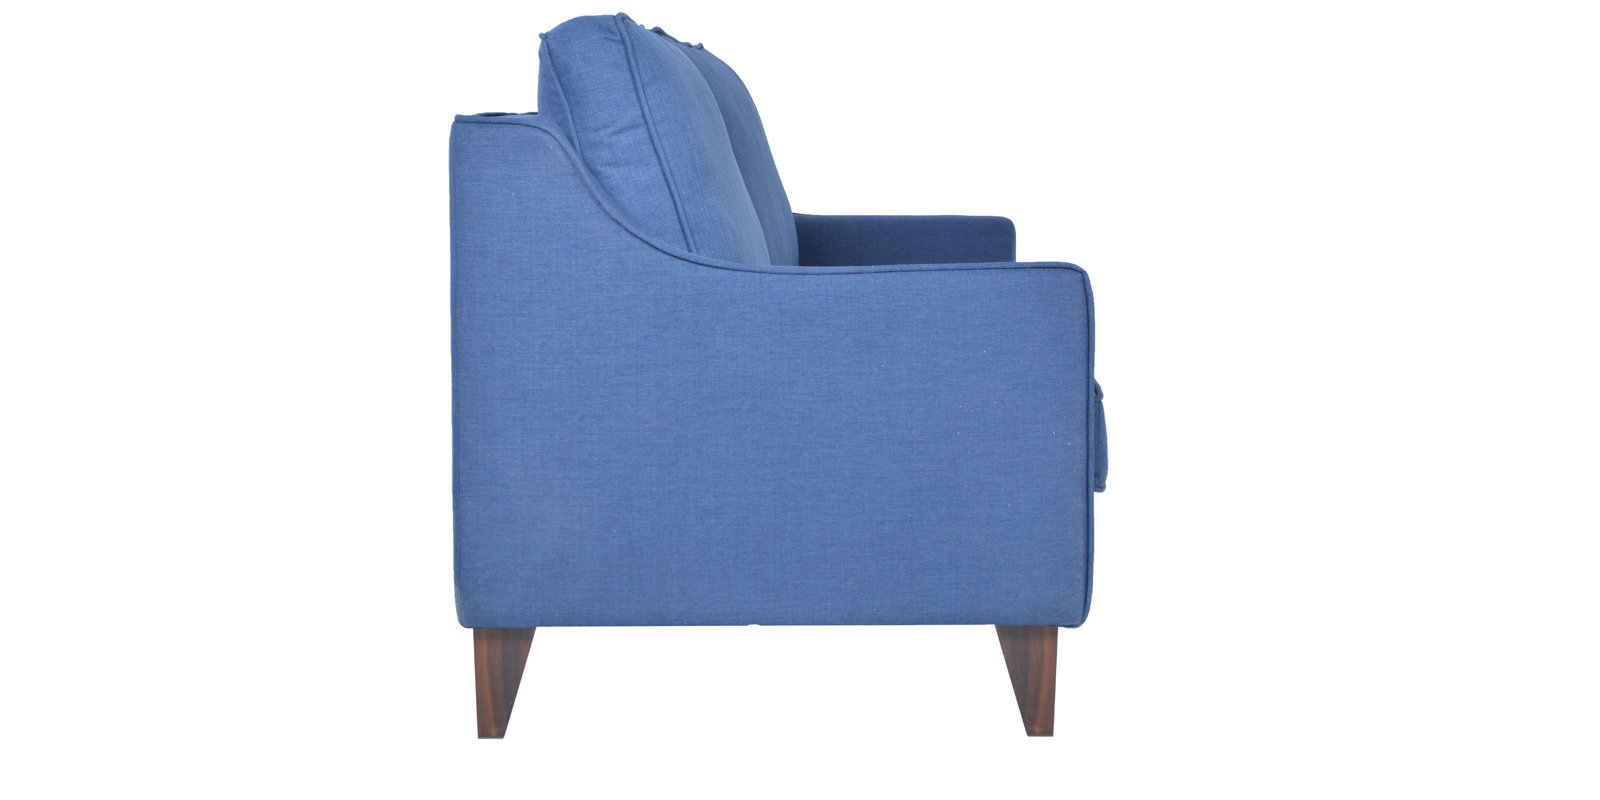Ithaca Impulse Three Seater Sofa with Throw Cushions in Teal Blue Colour by Urba: (411, 1, 1163, 771)
